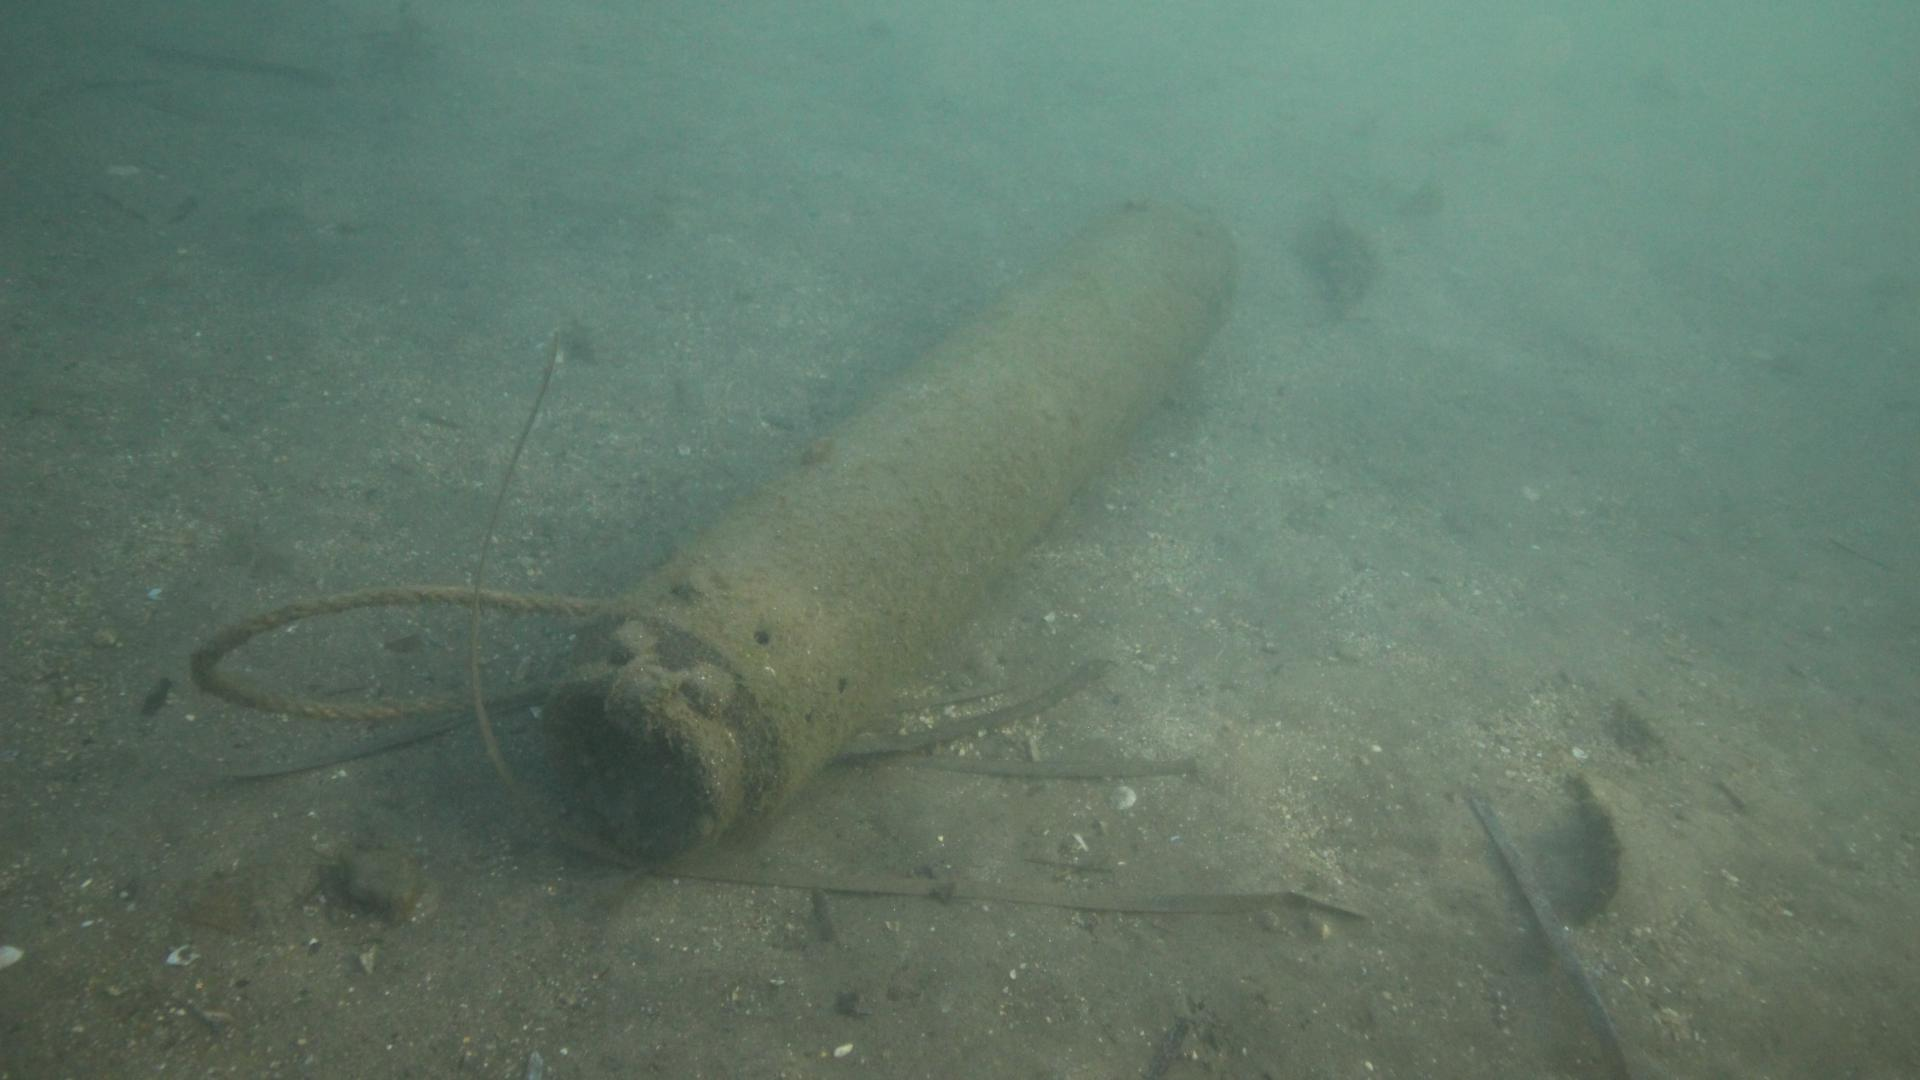eel fish trap: (549, 211, 1238, 865)
rope: (186, 583, 617, 723)
